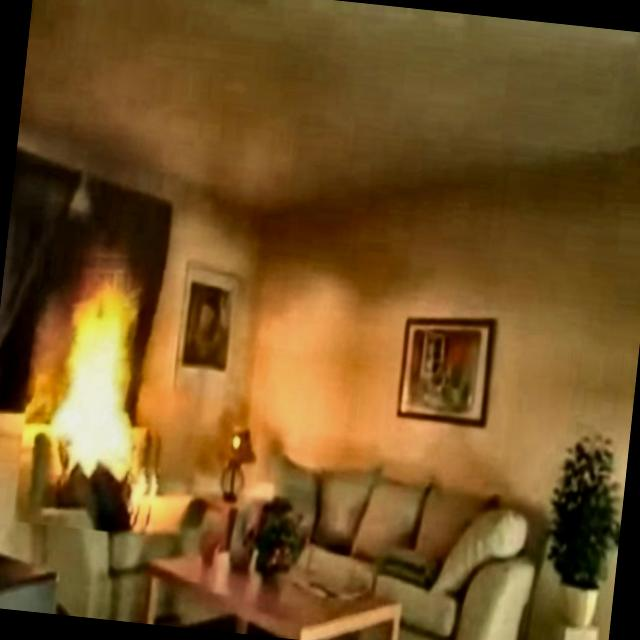fire: (33, 270, 150, 488)
